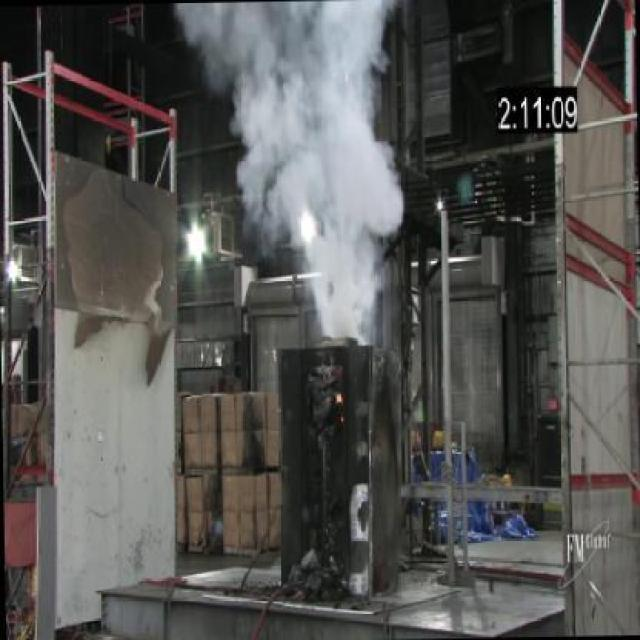fire: (210, 5, 413, 338)
